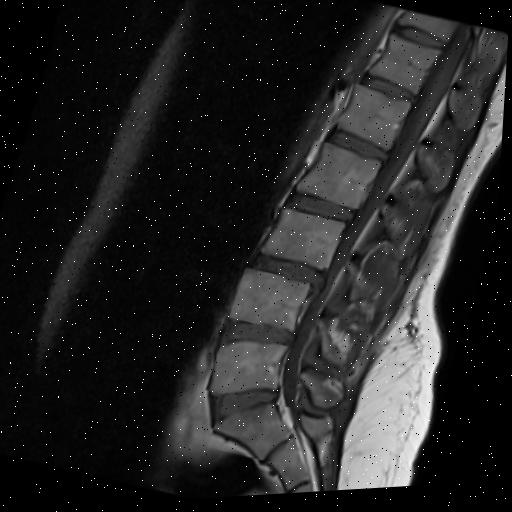L1: (338, 89, 411, 154)
L2: (299, 147, 382, 213)
L3: (266, 212, 346, 272)
L4: (232, 272, 312, 336)
L5: (214, 345, 291, 399)
S1: (219, 407, 296, 464)
